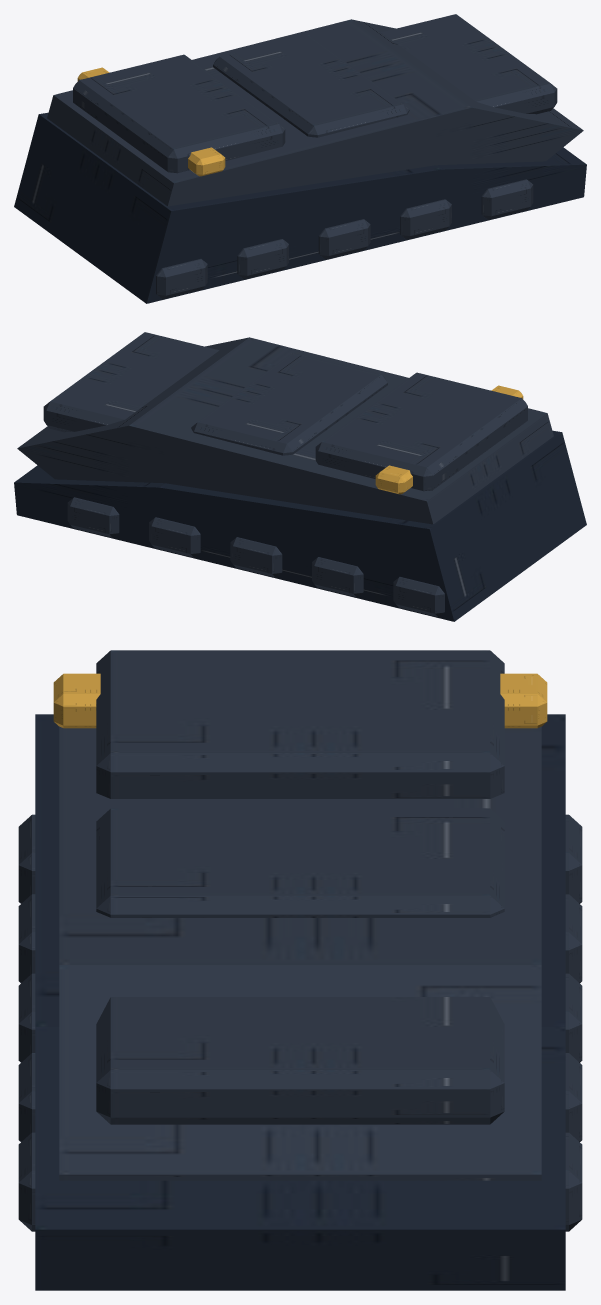
File: treads.glb
3 views of the same model, one above another, from view 1: azimuth 30°, elevation 25°; view 2: azimuth 150°, elevation 25°; view 3: azimuth 270°, elevation 25° (orthographic). The views are drawn at different scales.
Parts seen in each view (by area): view 1: foot_L, foot_R; view 2: foot_L; view 3: foot_L, foot_R.
Part boxes in pixels (x1,y1,x2,y2): foot_L: [14, 14, 586, 303]; foot_R: [188, 147, 225, 176]; foot_L: [14, 332, 586, 621]; foot_L: [18, 650, 582, 1290]; foot_R: [53, 673, 100, 728].
Bounding box in the file's own units: 0.305 × 0.085 × 0.168.
Materials: 3 (3 with a texture image).
